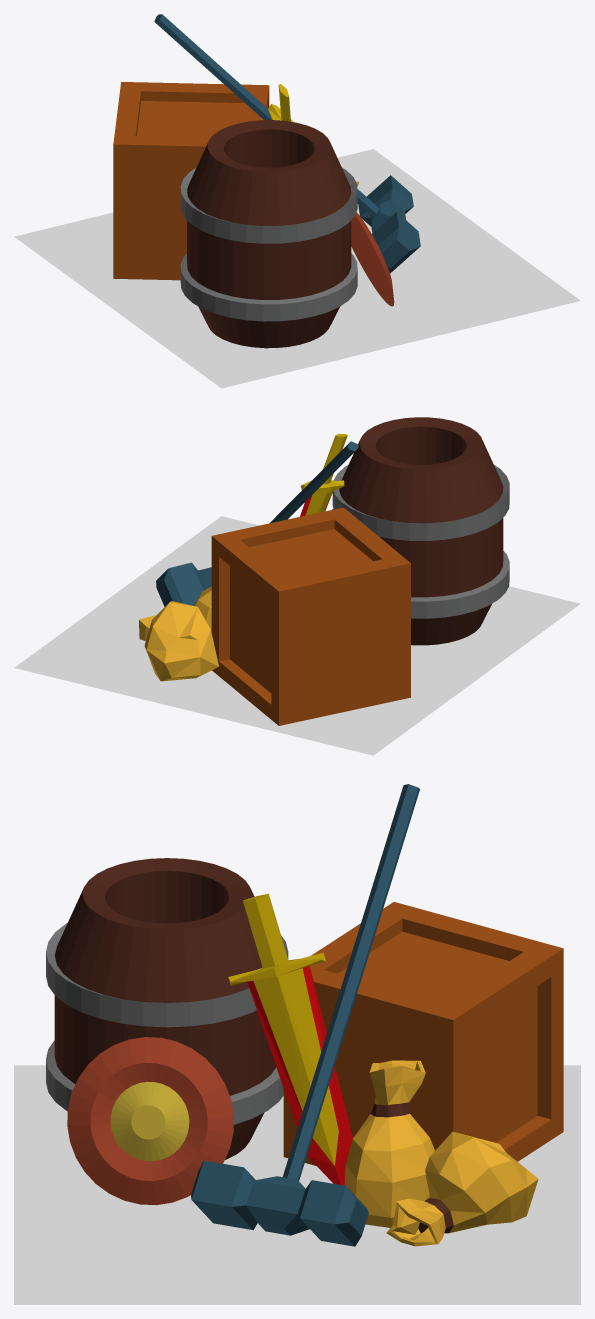
The model's file is stuff.dae.
The picture shows the model from 3 angles, top to bottom: view 1: azimuth 30°, elevation 25°; view 2: azimuth 150°, elevation 25°; view 3: azimuth 270°, elevation 25°; orthographic projection. The views are drawn at different scales.
Parts seen in each view (by area): view 1: Plane, Cylinder, Cube, Cube_002, Circle_001, Cube_001; view 2: Cube, Plane, Cylinder, Cylinder_002, Cube_002, Cube_001; view 3: Plane, Cube, Cylinder, Circle_001, Cube_002, Cube_001, Cylinder_002, Cylinder_001.
Part boxes in pixels (left/top/right/bottom): Plane: left=14, top=149, right=580, bottom=388; Cylinder: left=180, top=120, right=357, bottom=348; Cube: left=113, top=82, right=269, bottom=280; Cube_002: left=154, top=14, right=420, bottom=273; Circle_001: left=351, top=212, right=394, bottom=306; Cube_001: left=268, top=84, right=293, bottom=122; Cube: left=211, top=507, right=410, bottom=725; Plane: left=14, top=516, right=580, bottom=755; Cylinder: left=332, top=417, right=509, bottom=645; Cylinder_002: left=139, top=601, right=218, bottom=681; Cube_002: left=156, top=441, right=358, bottom=606; Cube_001: left=300, top=433, right=347, bottom=516; Plane: left=14, top=1065, right=580, bottom=1304; Cube: left=283, top=902, right=563, bottom=1165; Cylinder: left=46, top=858, right=288, bottom=1159; Circle_001: left=67, top=1037, right=233, bottom=1205; Cube_002: left=191, top=784, right=419, bottom=1246; Cube_001: left=228, top=894, right=352, bottom=1185; Cylinder_002: left=386, top=1131, right=538, bottom=1246; Cylinder_001: left=344, top=1060, right=434, bottom=1227.
Bounding box in the file's own units: 6.71 × 6.71 × 4.42.
